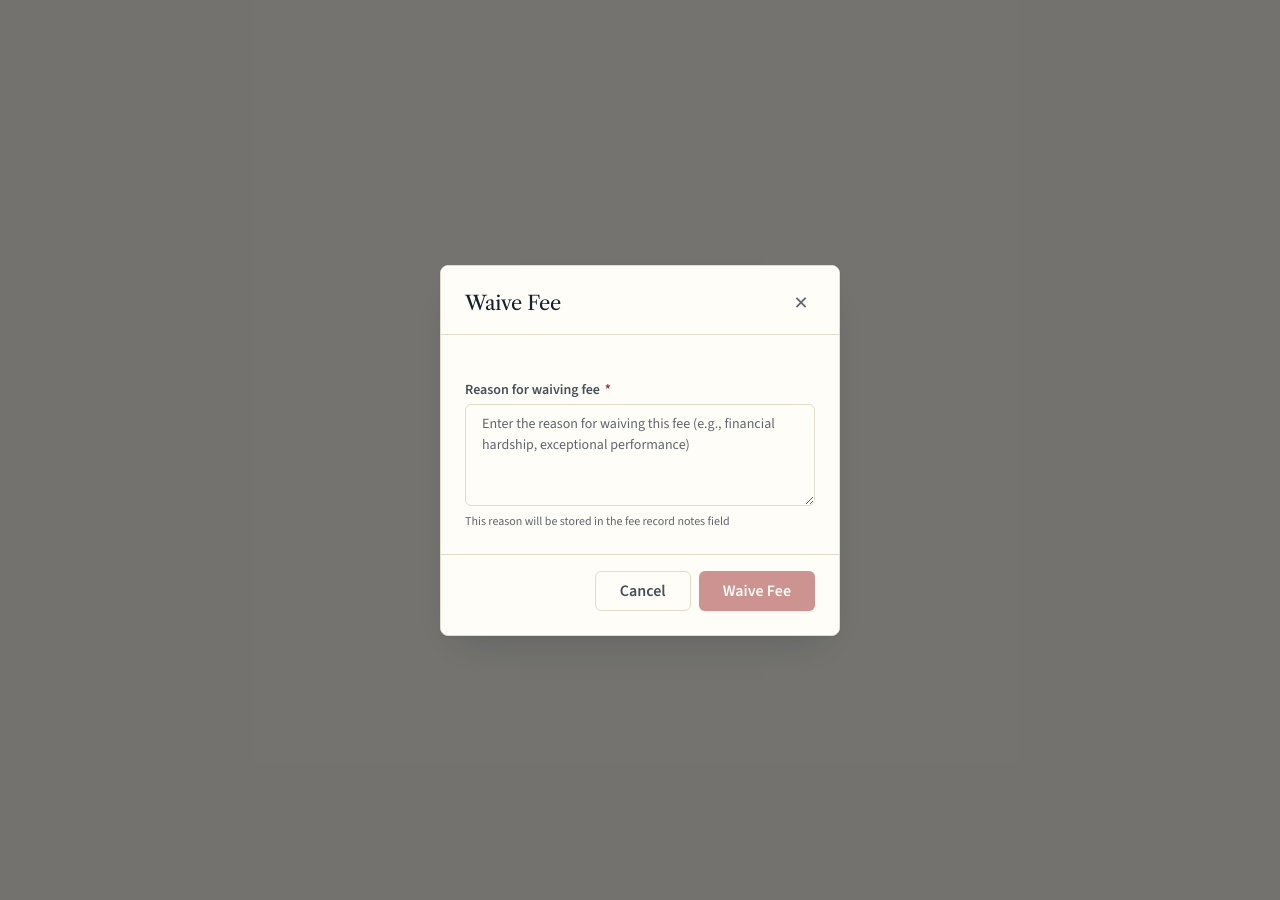
WaiveFeeModal › should enable submit button when reason is entered
Replace the text in the text box labelled "Reason for waiving fee *" with "Financial hardship" at (640, 454), box [465, 404, 815, 506]
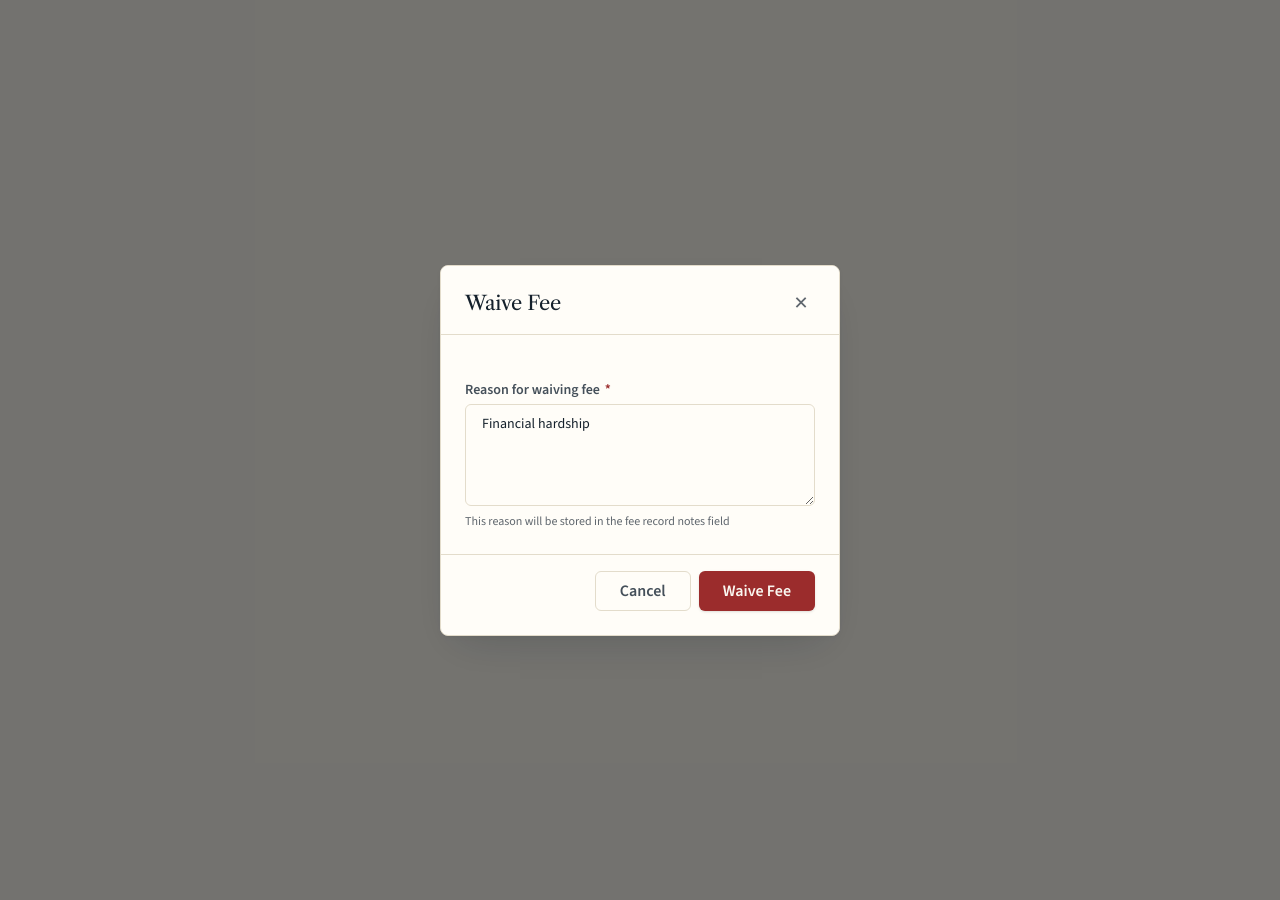
Result: the button "Waive Fee" is enabled at [699, 570, 815, 610]
